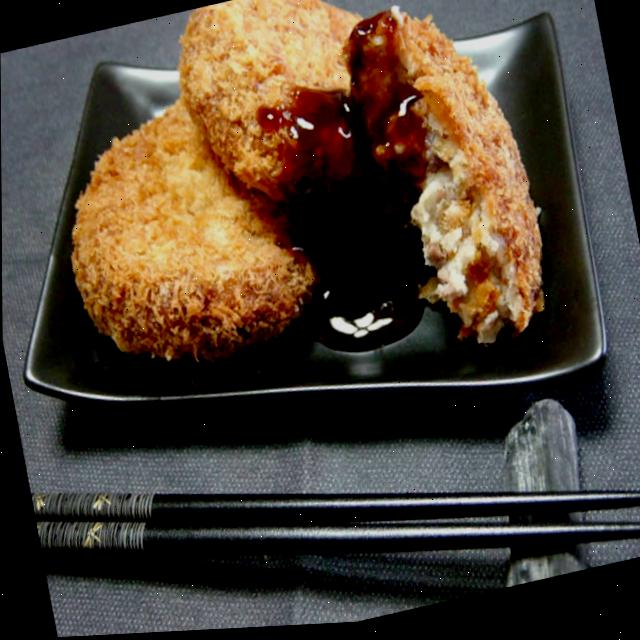炸货点心: (27, 0, 569, 458)
